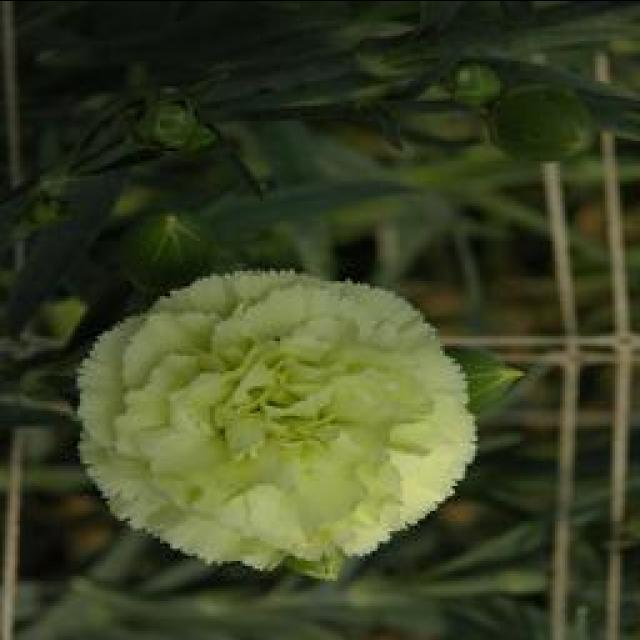carnation: (74, 250, 498, 582)
